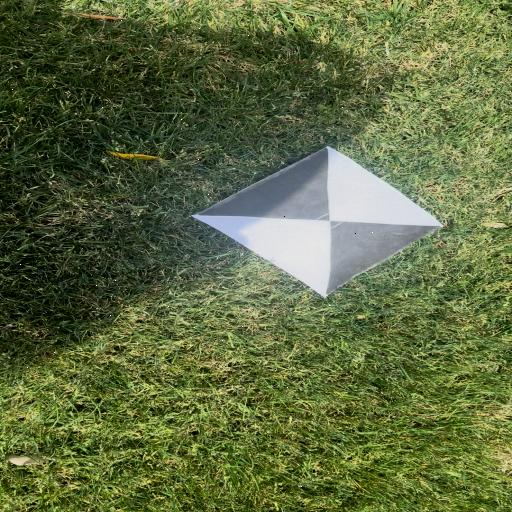target: (193, 146, 445, 295)
